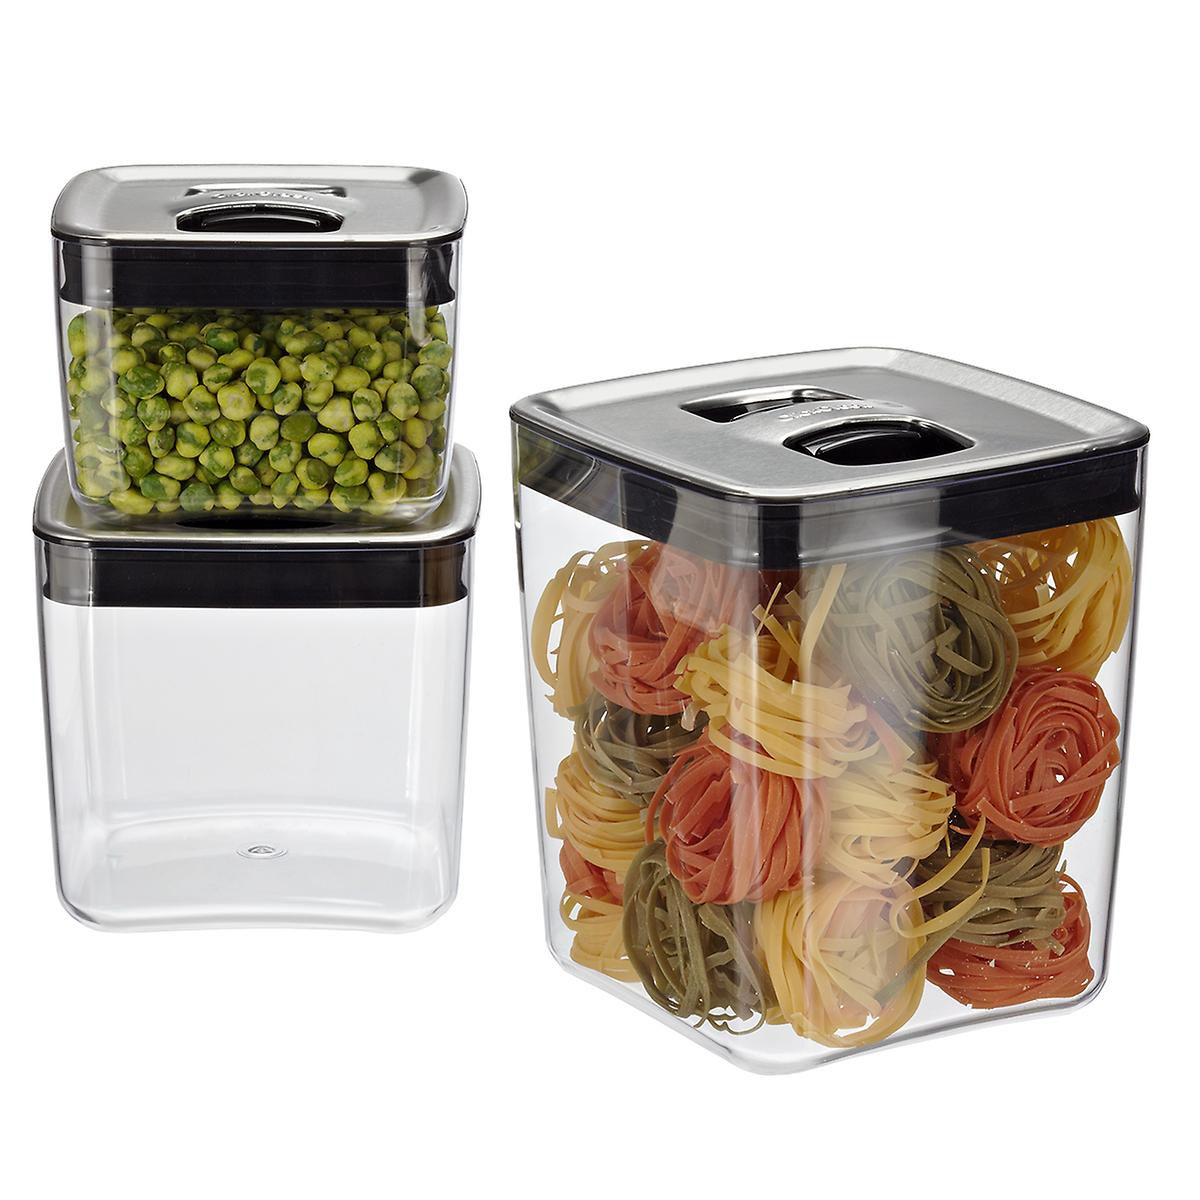PlasticBox: (498, 329, 1165, 1078)
